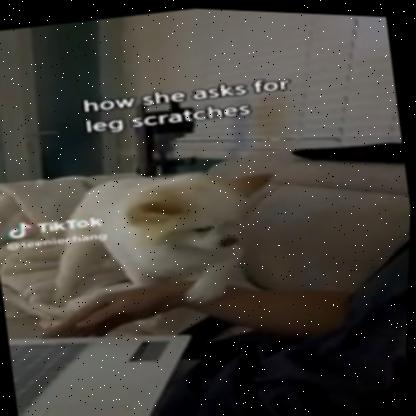dog: (30, 155, 272, 326)
